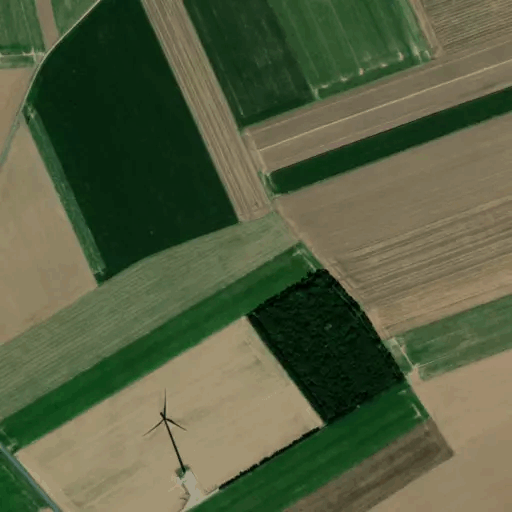wt: (139, 379, 207, 506)
